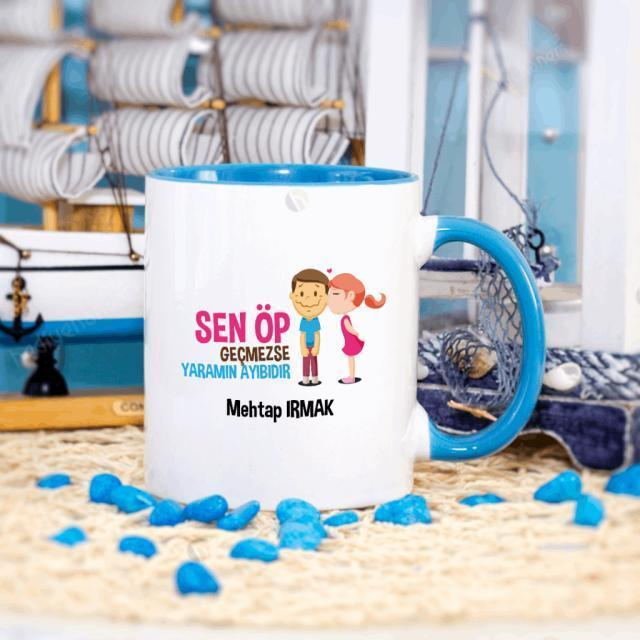taza: (142, 164, 544, 512)
